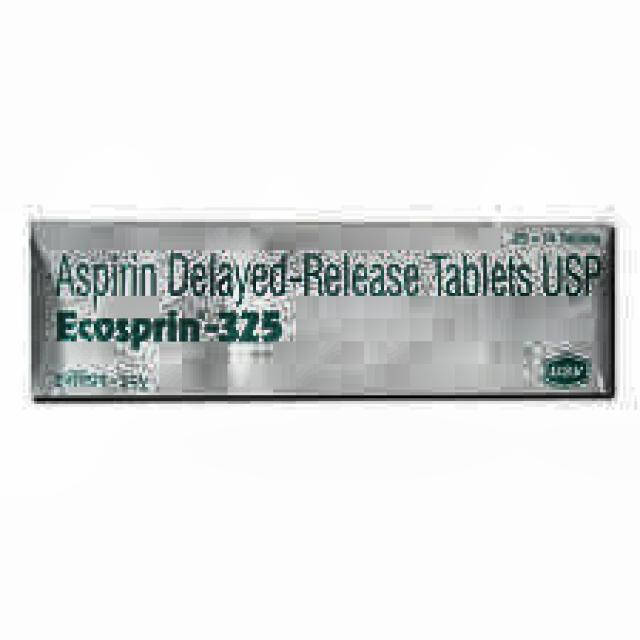Aspirin: (30, 223, 618, 394)
